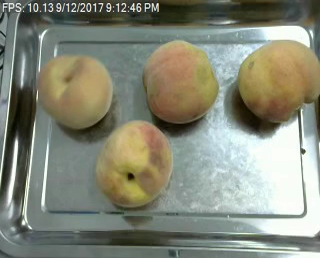Peach: (238, 39, 317, 122), (96, 120, 171, 207), (142, 38, 218, 123), (35, 54, 113, 130)
